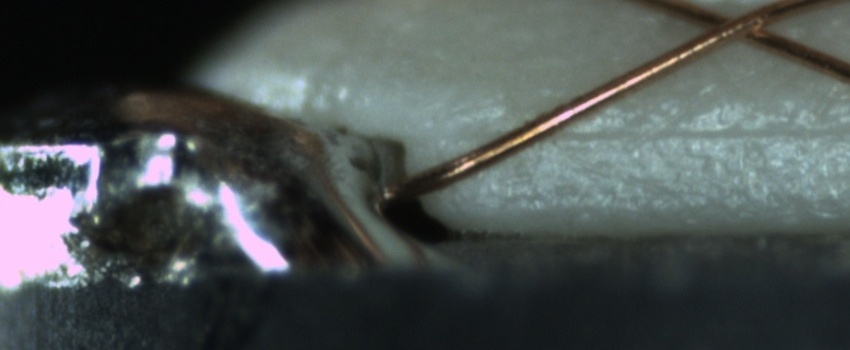CL: (683, 2, 792, 48)
DL: (551, 101, 849, 168)
